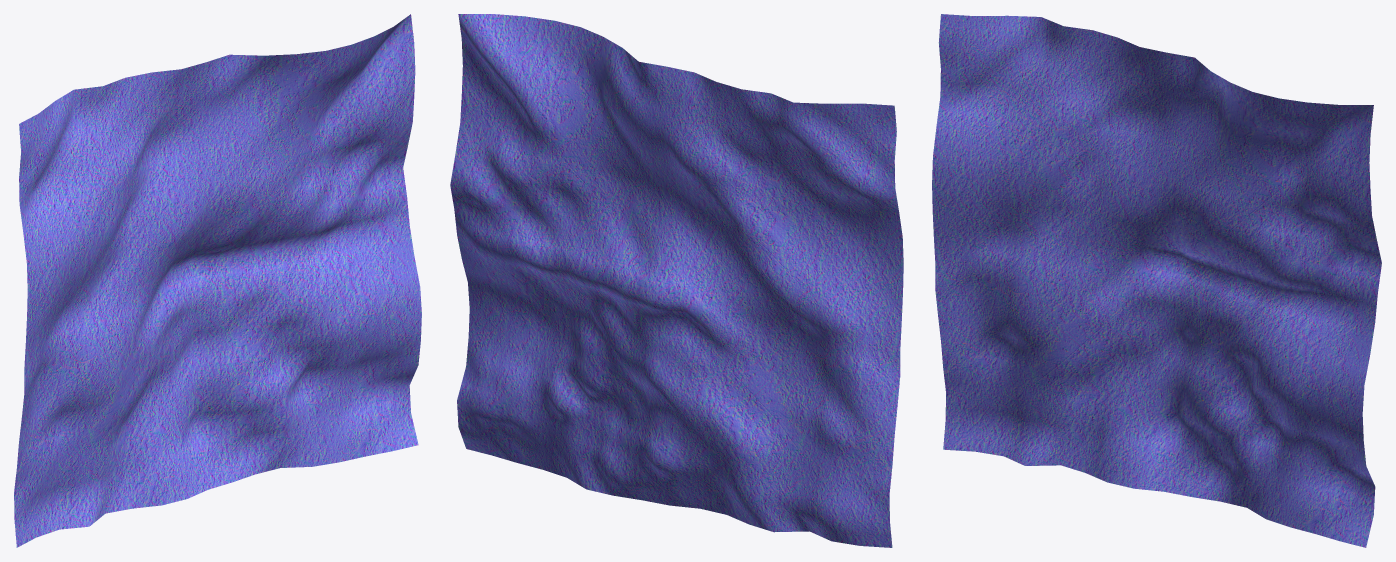
Rendered from Terrain_UV_unrapped.fbx.
The picture shows the model from 3 angles, left to right: view 1: azimuth 30°, elevation 25°; view 2: azimuth 150°, elevation 25°; view 3: azimuth 330°, elevation 25°; orthographic projection. The views are drawn at different scales.
Parts seen in each view (by area): view 1: Terrain_xyz_n_rgba_uv; view 2: Terrain_xyz_n_rgba_uv; view 3: Terrain_xyz_n_rgba_uv.
Part boxes in pixels (bbox=[...]): Terrain_xyz_n_rgba_uv: bbox=[14, 14, 421, 547]; Terrain_xyz_n_rgba_uv: bbox=[450, 14, 903, 547]; Terrain_xyz_n_rgba_uv: bbox=[932, 14, 1381, 547].
Size of the model in its own units: 320000 by 320000 by 56640.
